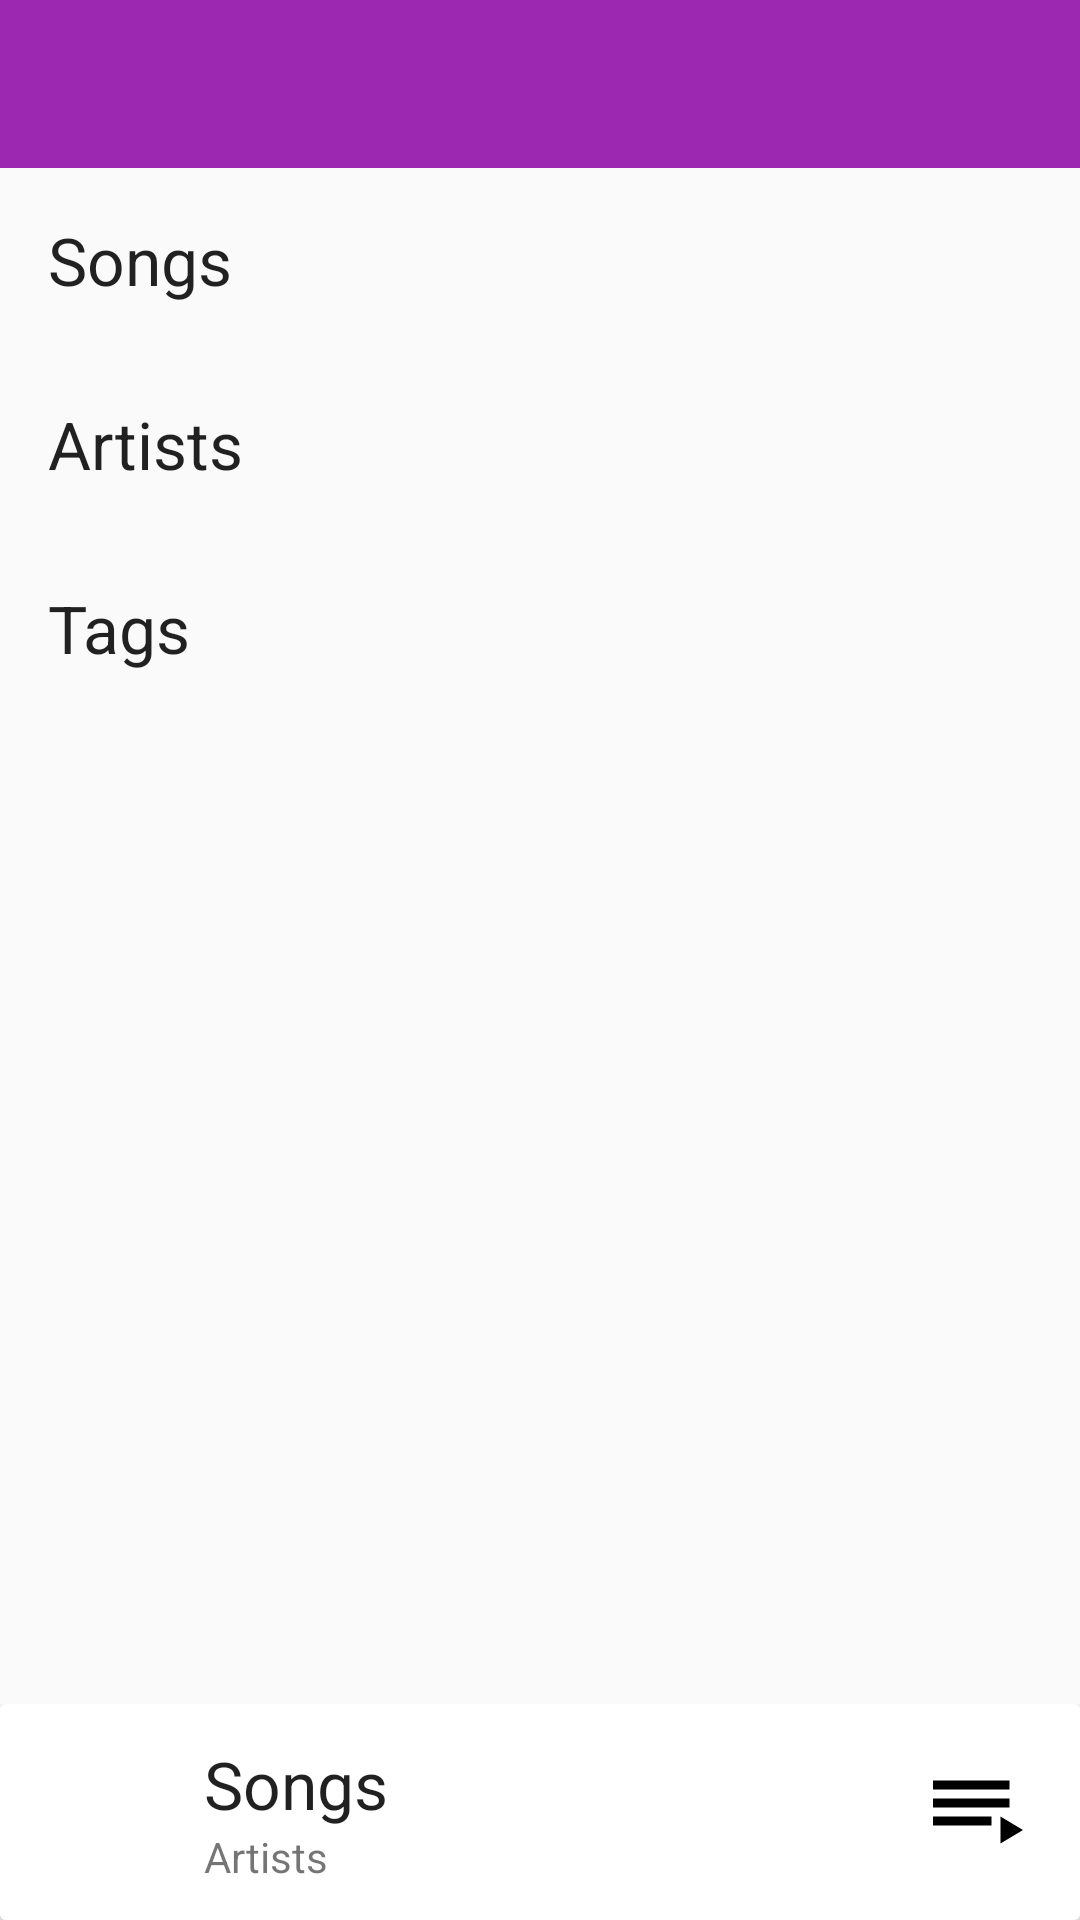

Named icons in this screenshot (1080w x 1920h) and their bounding boxes, (x1, y1, x2, y2):
playlist: (933, 1780, 1023, 1844)
